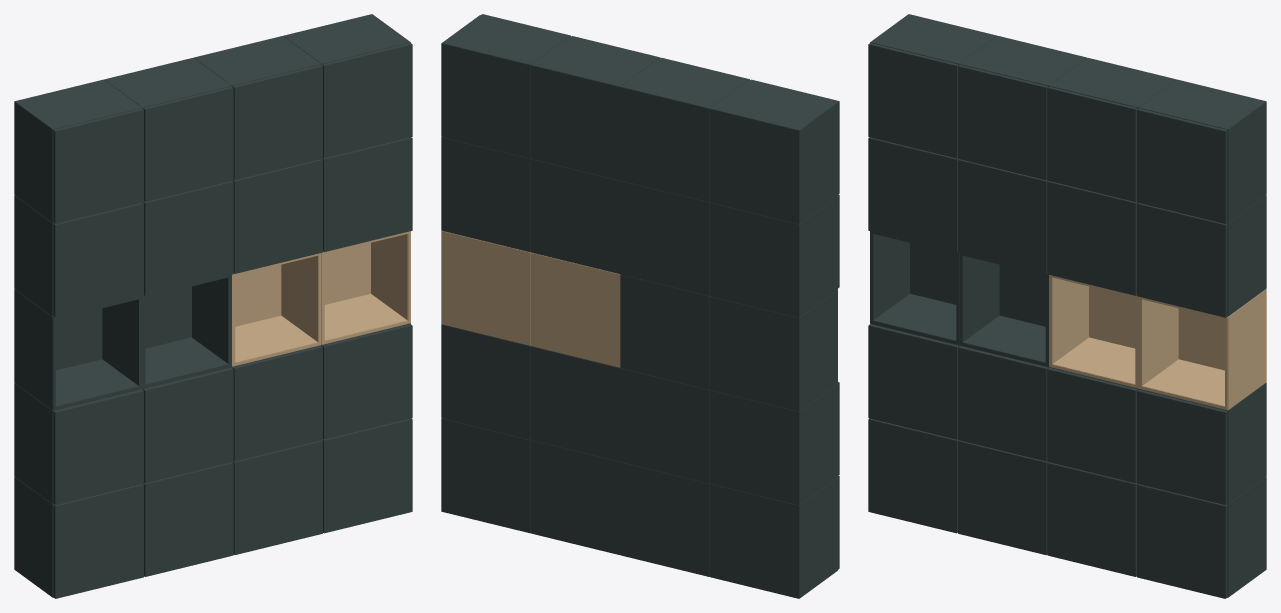
3 views of the same model, side by side, from view 1: azimuth 30°, elevation 25°; view 2: azimuth 150°, elevation 25°; view 3: azimuth 330°, elevation 25° (orthographic).
Parts seen in each view (by area): view 1: aobo-cabinet-and-wardrobe; view 2: aobo-cabinet-and-wardrobe; view 3: aobo-cabinet-and-wardrobe.
Boxes of the visible parts, x1,y1,x2,y2 form: aobo-cabinet-and-wardrobe: (14, 14, 412, 598); aobo-cabinet-and-wardrobe: (441, 14, 839, 598); aobo-cabinet-and-wardrobe: (868, 14, 1266, 598).
Size of the model in its own units: 1.6 by 2 by 0.3161.
